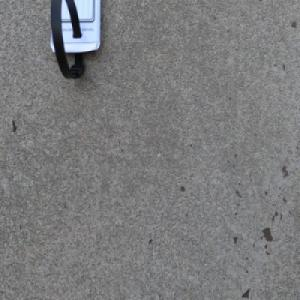LuggageTag: (45, 0, 102, 85)
